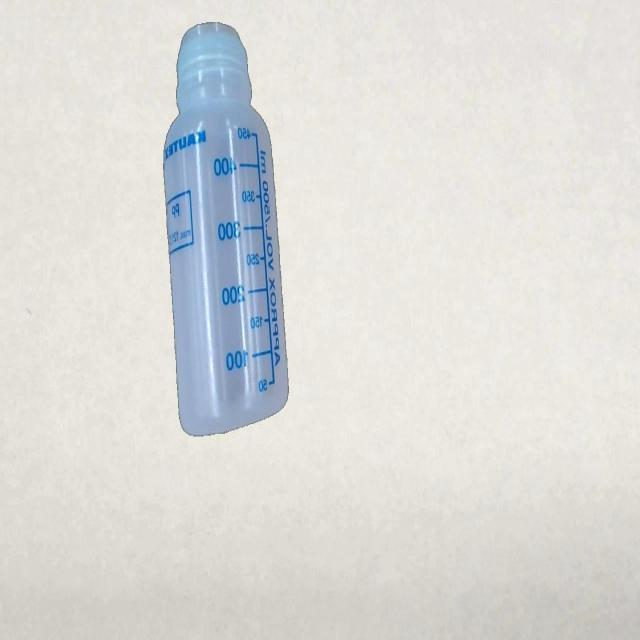bottle: (163, 22, 290, 438)
